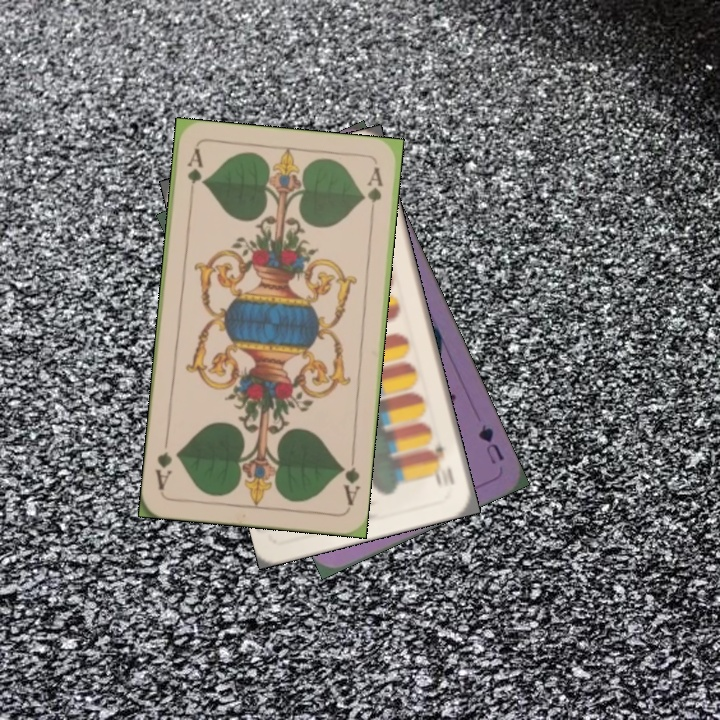E10: (430, 441, 457, 488)
GA: (336, 451, 362, 508), (183, 144, 206, 203)
GU: (474, 420, 507, 467)
